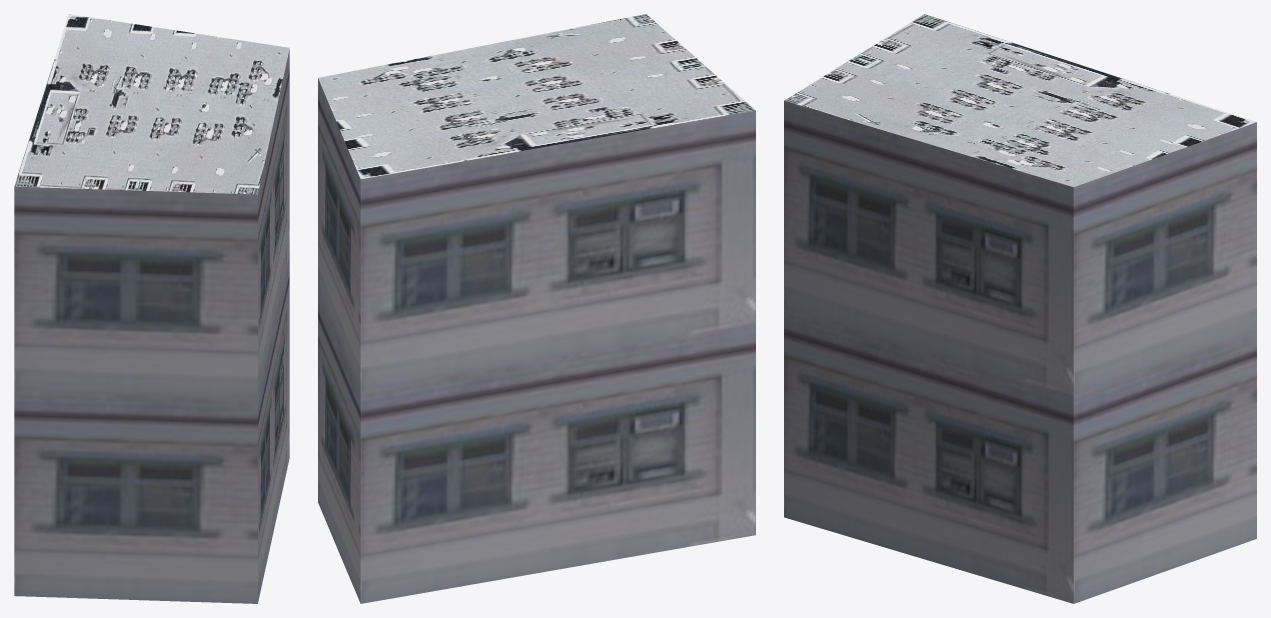
Rendered from ResTex__2835.fbx.
3 views of the same model, side by side, from view 1: azimuth 30°, elevation 25°; view 2: azimuth 150°, elevation 25°; view 3: azimuth 270°, elevation 25° (orthographic). The views are drawn at different scales.
Parts seen in each view (by area): view 1: CityEngineMaterial_1_m, CityEngineMaterial_4_m; view 2: CityEngineMaterial_1_m, CityEngineMaterial_4_m; view 3: CityEngineMaterial_1_m, CityEngineMaterial_4_m.
Boxes of the visible parts, x1,y1,x2,y2 form: CityEngineMaterial_1_m: (14,49,289,603); CityEngineMaterial_4_m: (14,14,289,194); CityEngineMaterial_1_m: (318,78,755,603); CityEngineMaterial_4_m: (318,14,755,179); CityEngineMaterial_1_m: (784,101,1256,603); CityEngineMaterial_4_m: (784,14,1256,187).
Bounding box in the file's own units: 5.35 × 6 × 6.17.
2 materials, 2 textured.
